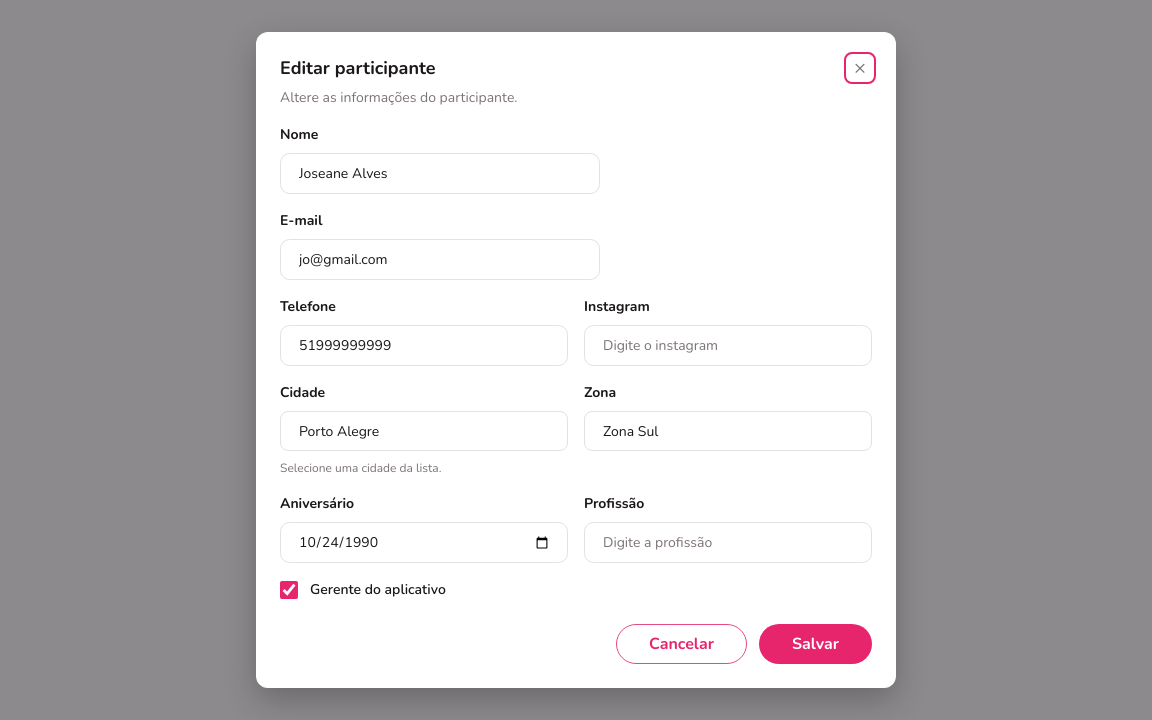
ParticipantModal › only offers zones of the selected city
The image size is (1152, 720).
Step 1. Replace the text in the dropdown labelled "Zona" with "Zona" → (728, 431), box x1=601 y1=420 x2=855 y2=442
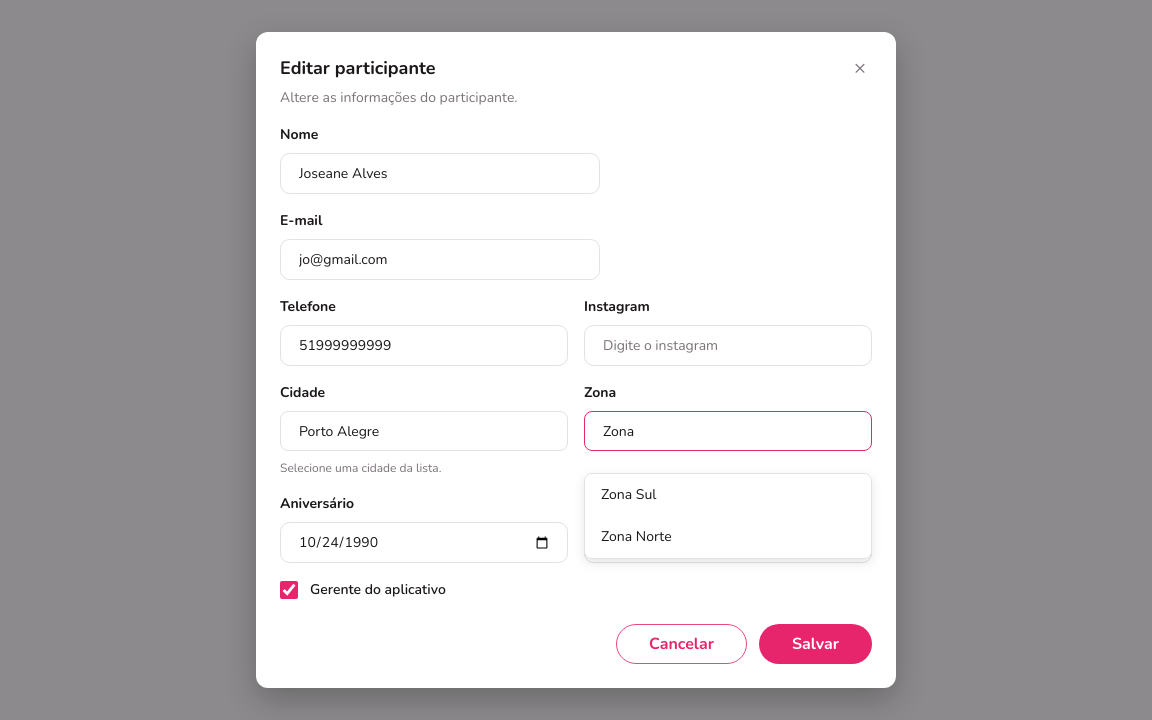
Now the options read "Zona Sul", "Zona Norte", in this order, box x1=585 y1=474 x2=871 y2=516; x1=585 y1=516 x2=871 y2=558
